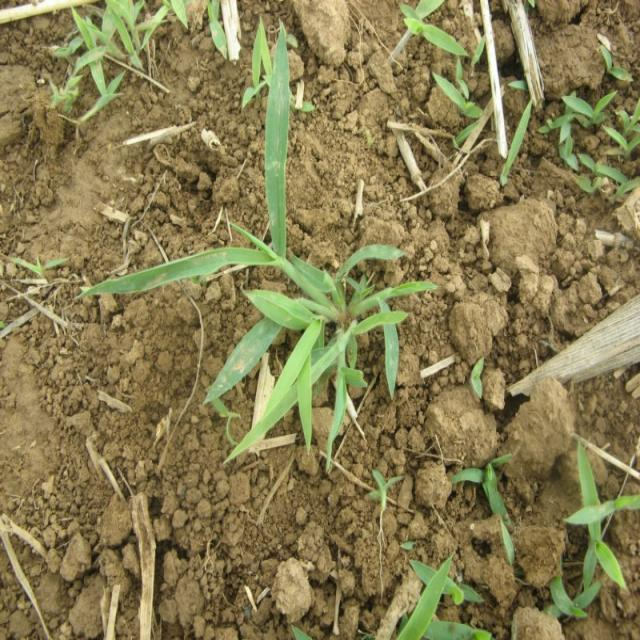bg: (84, 32, 405, 456)
